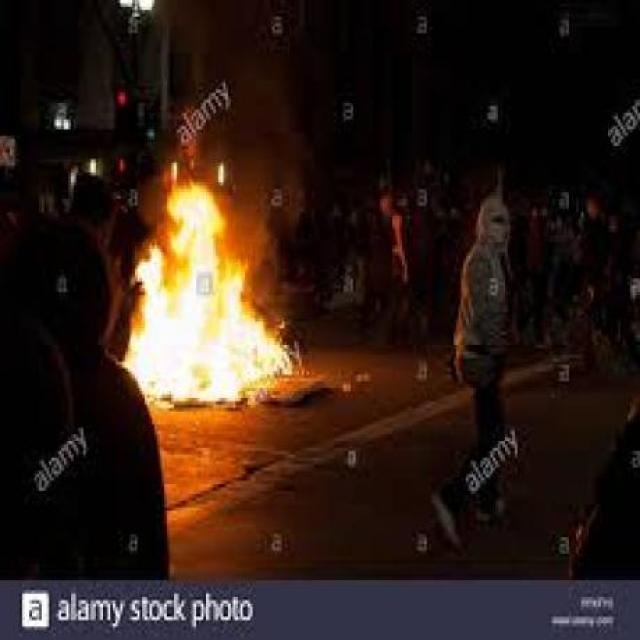Fire: (106, 170, 300, 399)
Smoke: (144, 1, 318, 150)
